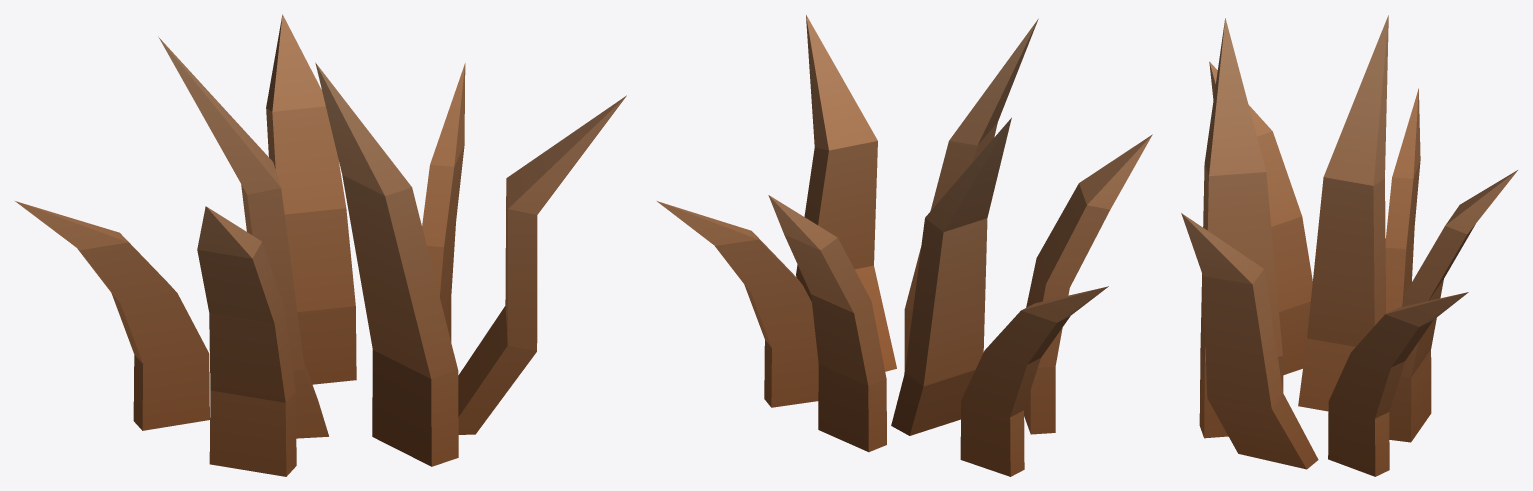
File: grass brown 4.fbx
3 views of the same model, side by side, from view 1: azimuth 30°, elevation 25°; view 2: azimuth 150°, elevation 25°; view 3: azimuth 270°, elevation 25° (orthographic). The views are drawn at different scales.
Parts seen in each view (by area): view 1: grass brown 4; view 2: grass brown 4; view 3: grass brown 4.
Boxes of the visible parts, box(x1,y1,x2,y2) form: grass brown 4: box(15, 14, 626, 476); grass brown 4: box(657, 15, 1152, 476); grass brown 4: box(1181, 15, 1517, 476).
Bounding box in the file's own units: 88.88 × 74.15 × 62.15.
